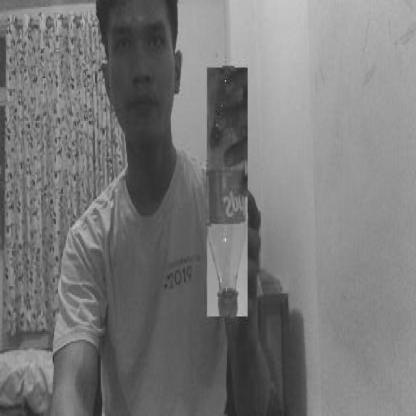plastic_bottles: (206, 67, 247, 317)
